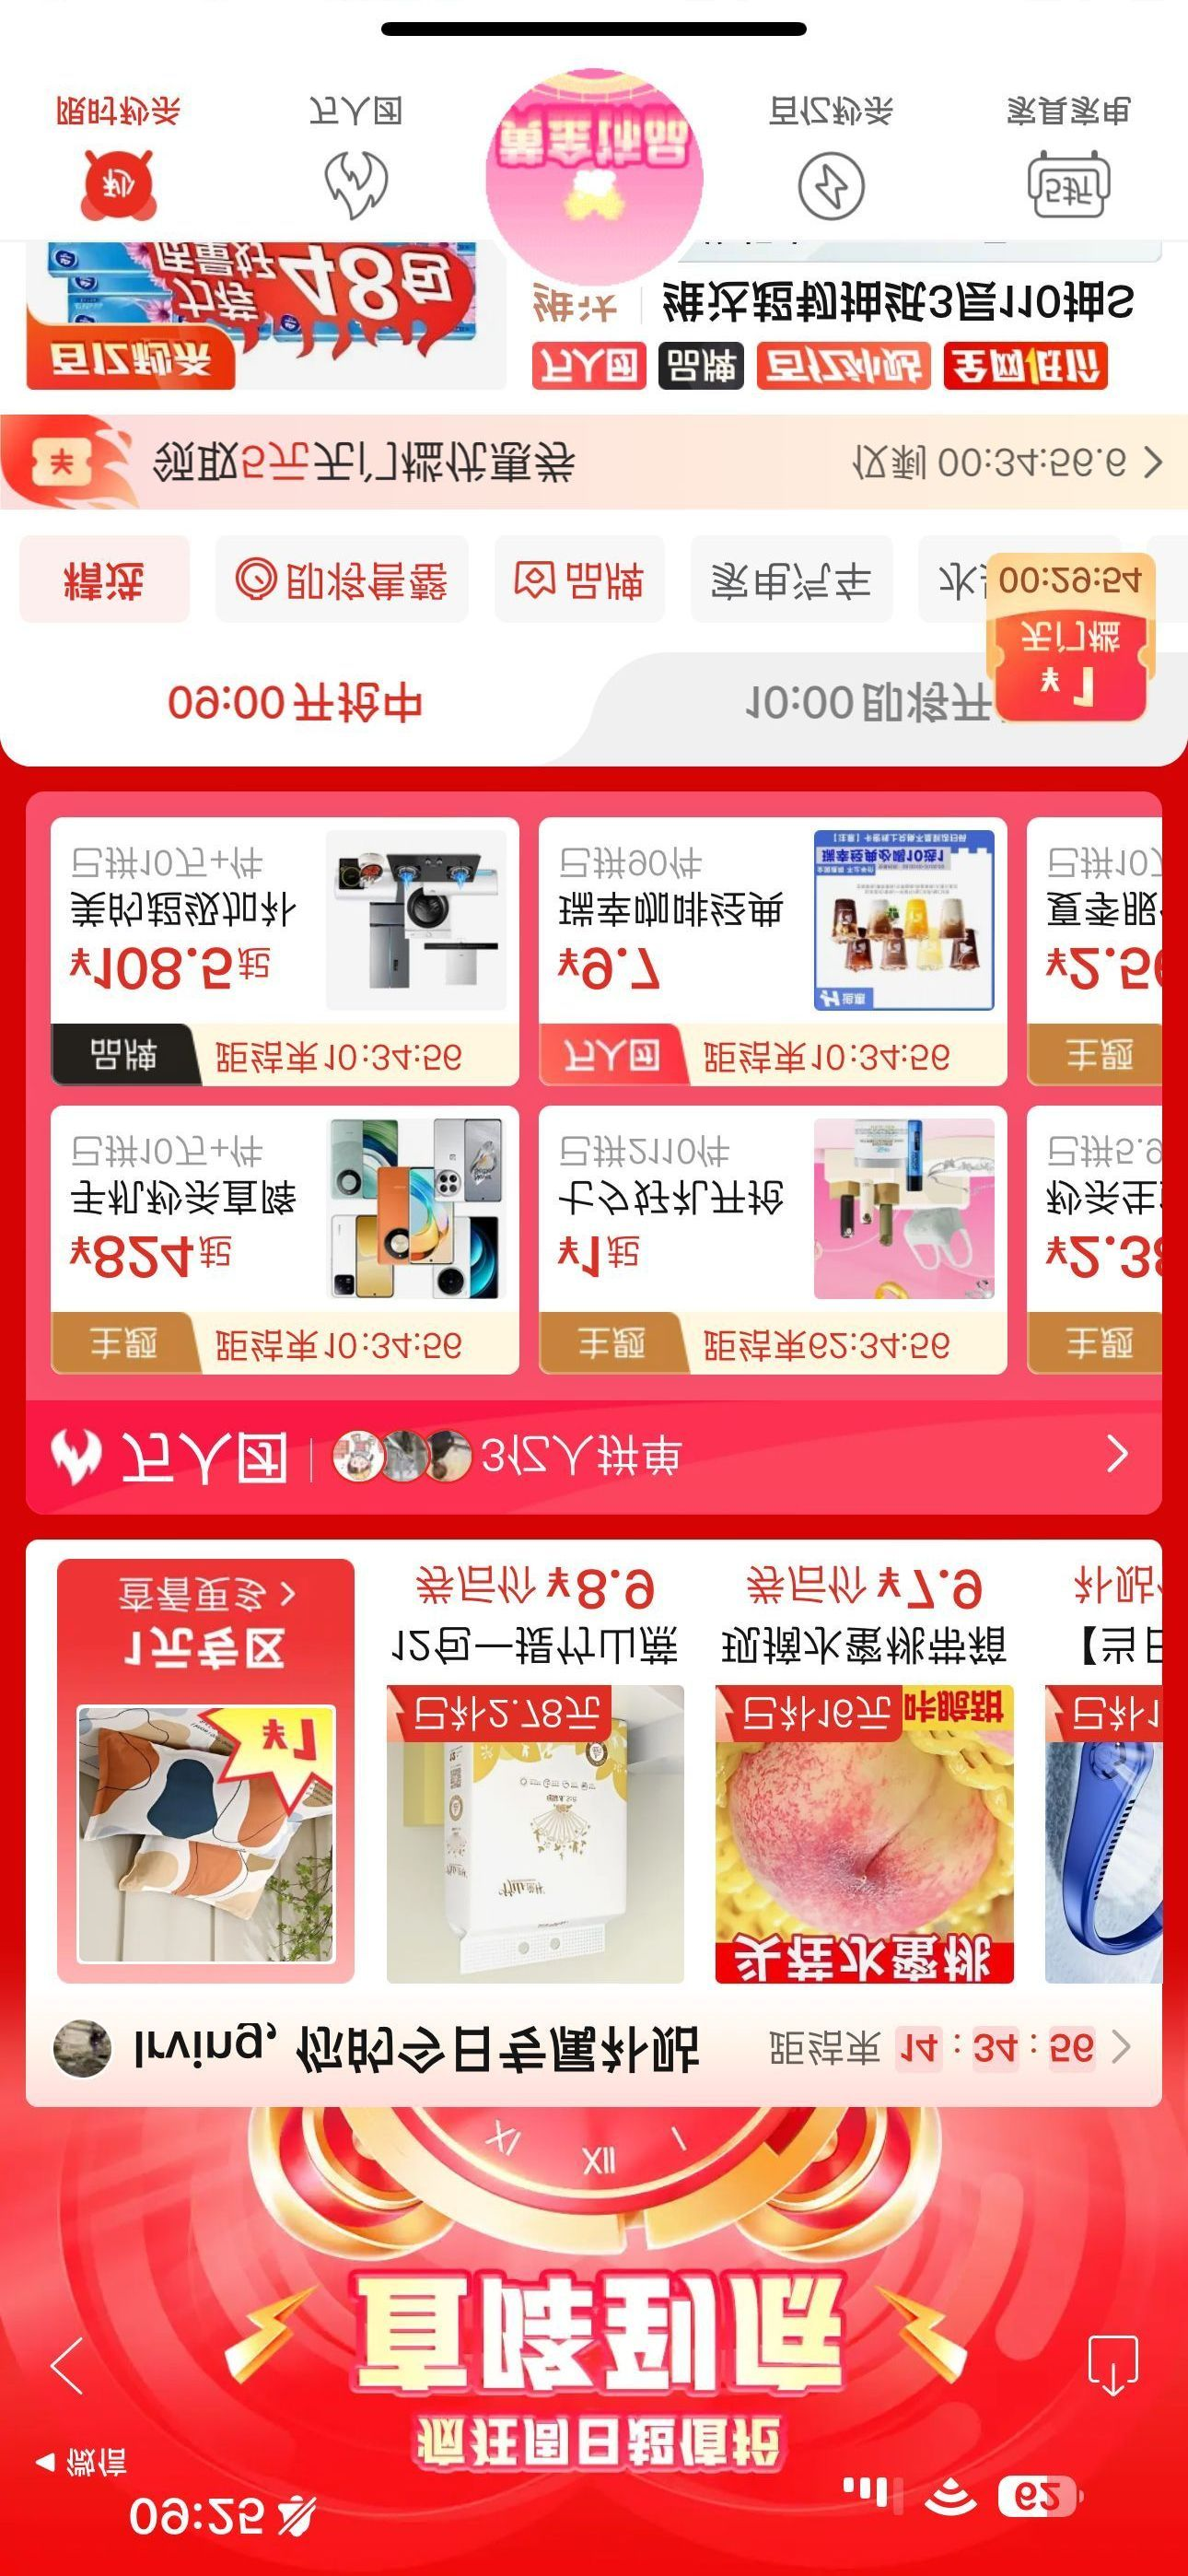banner: (5, 404, 1188, 521)
op_bar: (13, 2305, 1185, 2426)
seckill: (7, 775, 1183, 1520), (13, 1521, 1176, 2139)
